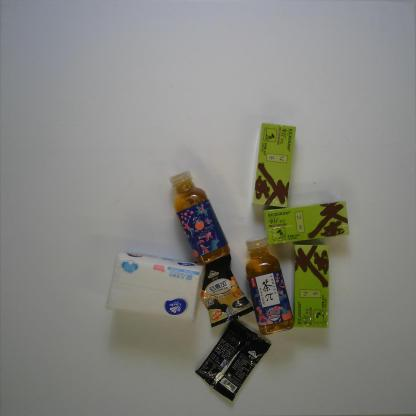Drink: (168, 169, 232, 267), (244, 236, 295, 337)
Instant Drink: (194, 318, 272, 402), (195, 253, 254, 329), (263, 199, 350, 245), (251, 121, 296, 208), (290, 243, 330, 329)
Tissue: (105, 251, 206, 325)
